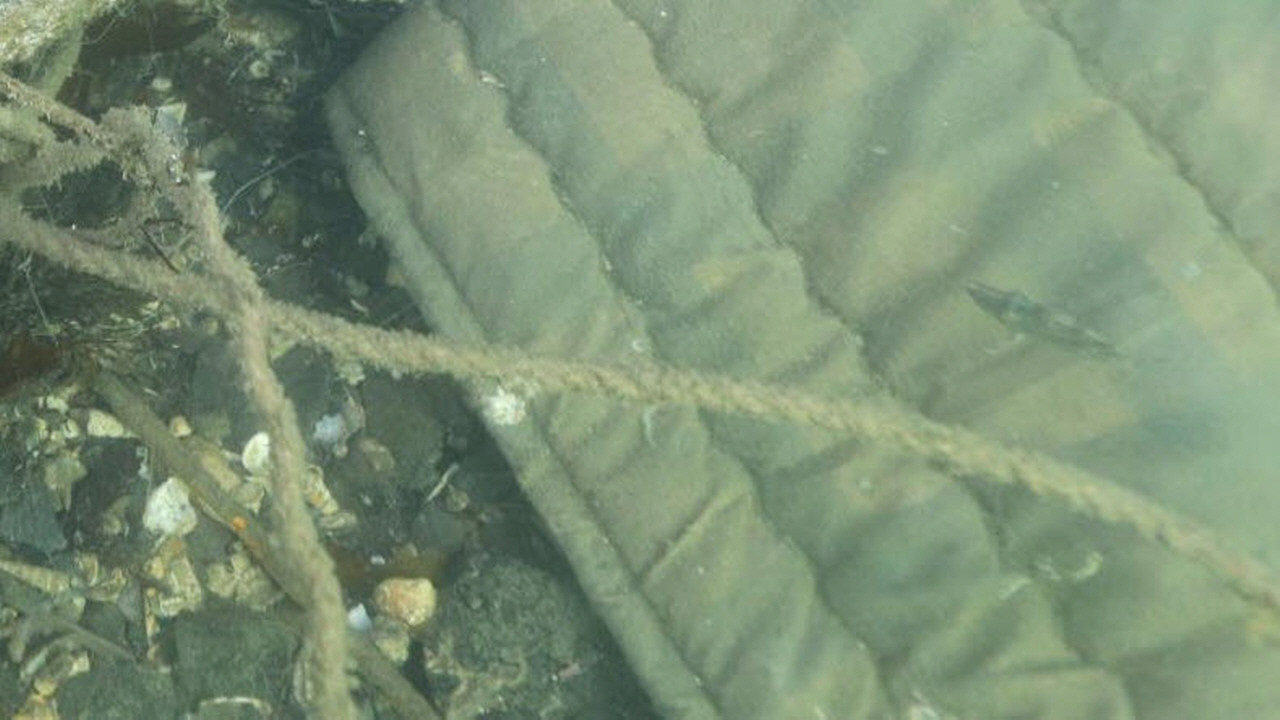rope: (0, 199, 1280, 613), (178, 185, 361, 720)
